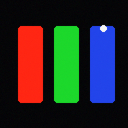0 point: (100, 25, 106, 31)
